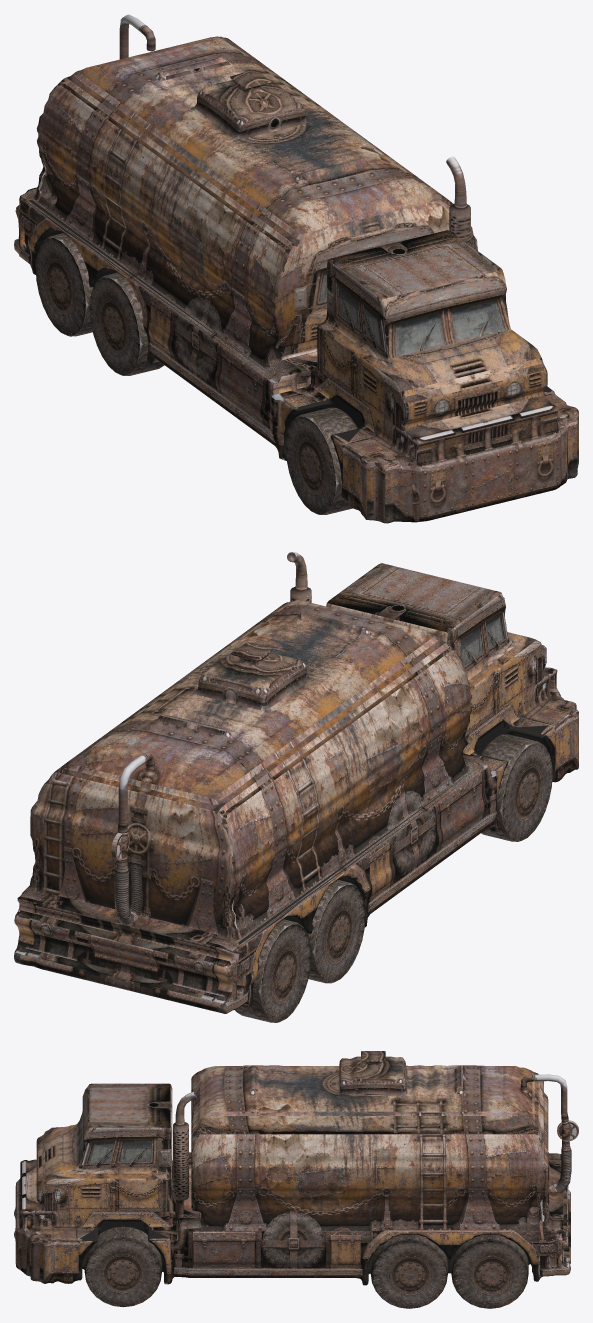
Rendered from big-bess.glb.
3 renders of one model, top to bottom at view 1: azimuth 30°, elevation 25°; view 2: azimuth 150°, elevation 25°; view 3: azimuth 270°, elevation 25°, orthographic. The views are drawn at different scales.
Visible parts, largest first — view 1: Big Bess carved body, Big Bess wheel 1 right, Big Bess wheel 2 right, Big Bess wheel 3 right, Big Bess exhaust stack, Big Bess draw pipe; view 2: Big Bess carved body, Big Bess wheel 1 right, Big Bess wheel 3 right, Big Bess wheel 2 right, Big Bess draw pipe, Big Bess exhaust stack; view 3: Big Bess carved body, Big Bess wheel 1 left, Big Bess wheel 2 left, Big Bess wheel 3 left, Big Bess exhaust stack, Big Bess draw pipe.
Boxes of the visible parts, x1,y1,x2,y2 form: Big Bess carved body: (14,36,578,523); Big Bess wheel 1 right: (285,407,357,514); Big Bess wheel 2 right: (89,272,164,375); Big Bess wheel 3 right: (35,233,92,336); Big Bess exhaust stack: (446,156,470,245); Big Bess draw pipe: (119,14,155,59); Big Bess carved body: (14,563,578,1013); Big Bess wheel 1 right: (481,734,552,841); Big Bess wheel 3 right: (235,919,311,1022); Big Bess wheel 2 right: (308,879,365,983); Big Bess draw pipe: (114,752,154,925); Big Bess exhaust stack: (287,552,311,602); Big Bess carved body: (14,1051,570,1285); Big Bess wheel 1 left: (84,1226,161,1307); Big Bess wheel 2 left: (370,1234,447,1308); Big Bess wheel 3 left: (451,1234,528,1308); Big Bess exhaust stack: (173,1091,196,1218); Big Bess draw pipe: (520,1074,571,1192).
Size of the model in its own units: 2.81 by 3.4 by 8.12.
Materials: 6 (5 with a texture image).
